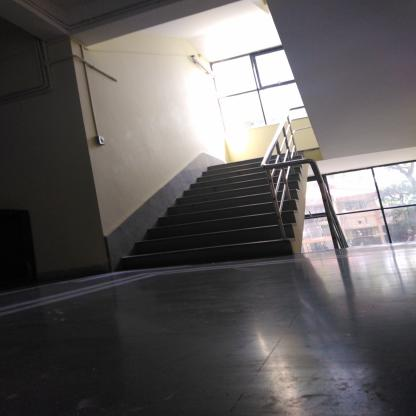stairs: (210, 165, 259, 263)
